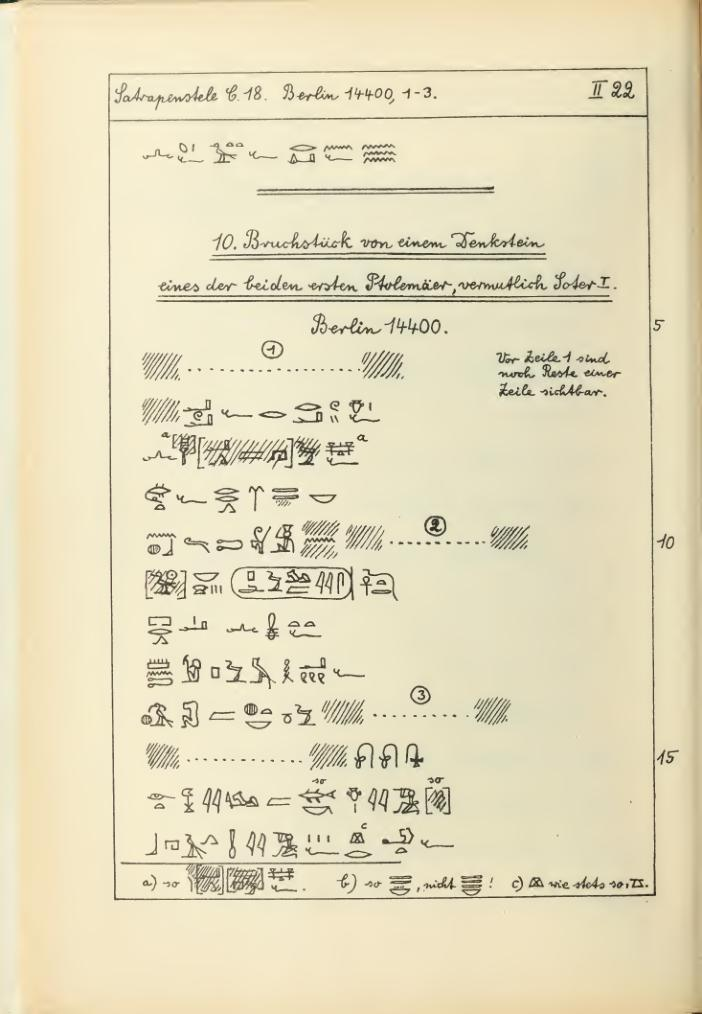circle: (231, 561, 365, 613)
